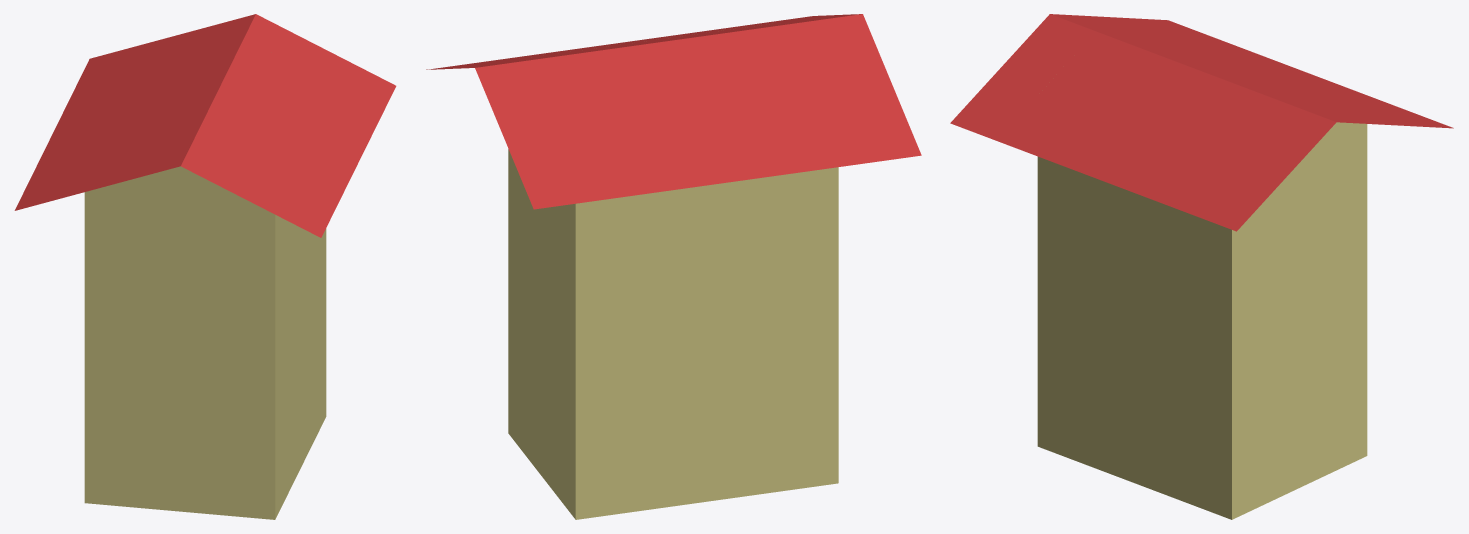
3 views of the same model, side by side, from view 1: azimuth 30°, elevation 25°; view 2: azimuth 150°, elevation 25°; view 3: azimuth 270°, elevation 25° (orthographic). The views are drawn at different scales.
Bounding box in the file's own units: 8.07 × 8.14 × 6.89.
